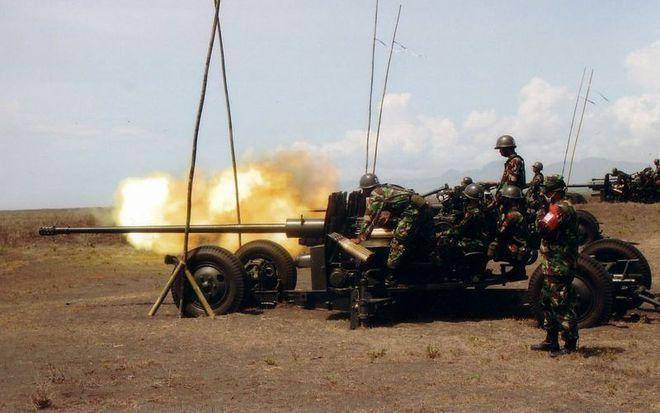MIL_SPG: (170, 191, 526, 327), (572, 213, 660, 327), (40, 226, 184, 236)
